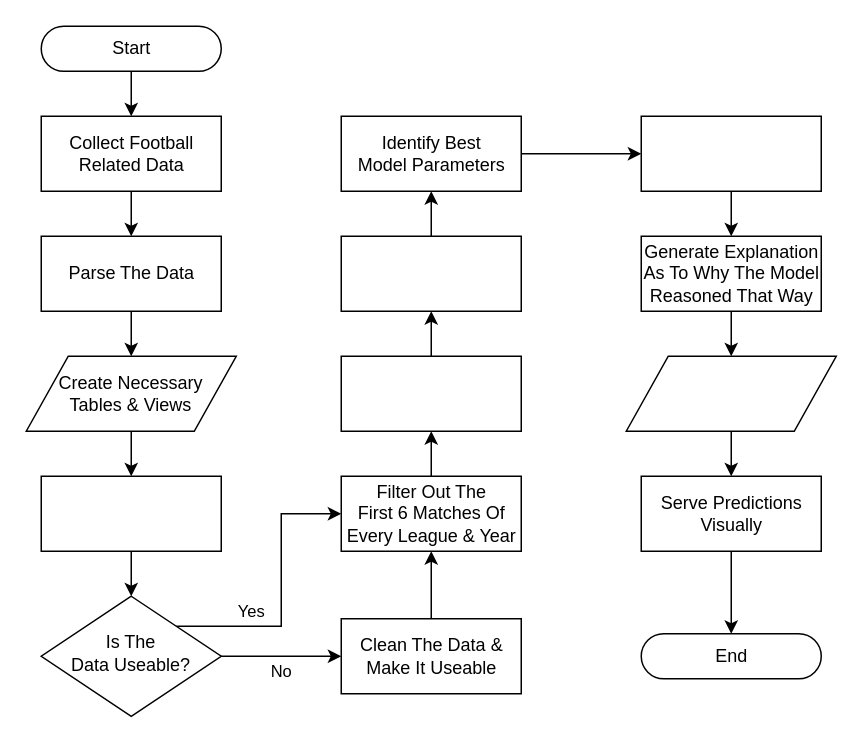
Image size: 863x743. Some labels were removed from this diagram. The centre of each missing label's shape, as x and y in pixels:
"Append Information Generated By Poisson Distribution" belongs at (x=430, y=393).
"Conduct ML Training" belongs at (x=430, y=273).
"Predict Fixtures With Most Accurate Set Of Parameters" belongs at (x=730, y=153).
"Query Football Fixtures Statistics Related Information" belongs at (x=130, y=513).
"Save The Computed Data In a New Table" belongs at (x=730, y=393).
